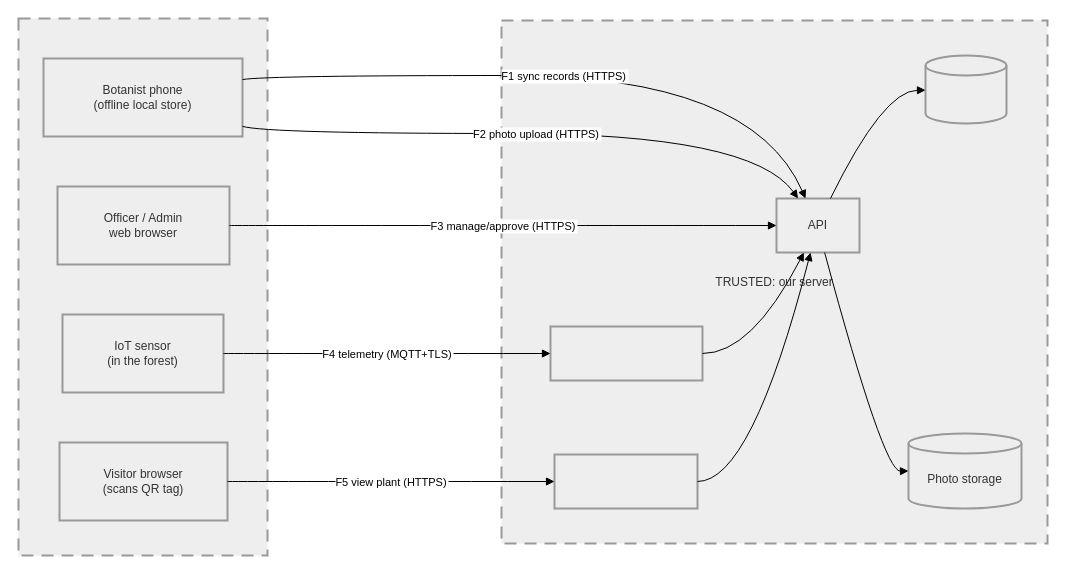
This 1065x573 diagram has some shape labels left out. Here are the shapes that lost their labels. From the top down, the box of each, then its label:
(924, 54, 1007, 124): Database
(17, 17, 268, 556): UNTRUSTED: outside our control
(549, 325, 703, 381): MQTT broker
(553, 453, 698, 509): Public page
